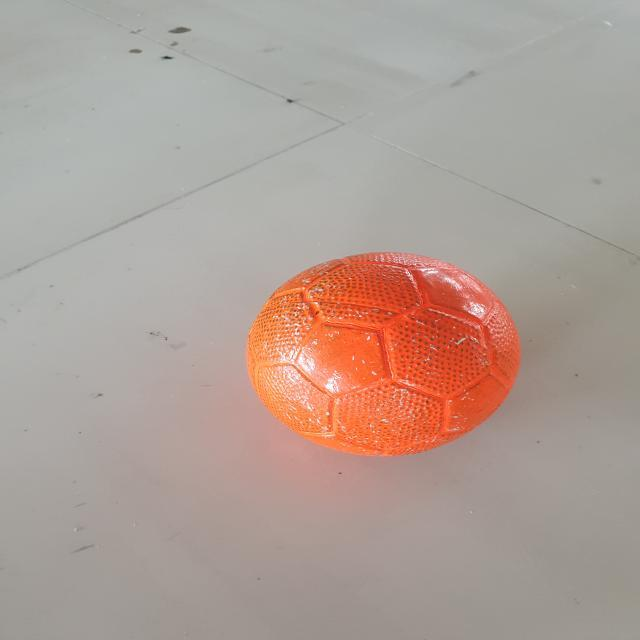bola: (209, 243, 537, 468)
